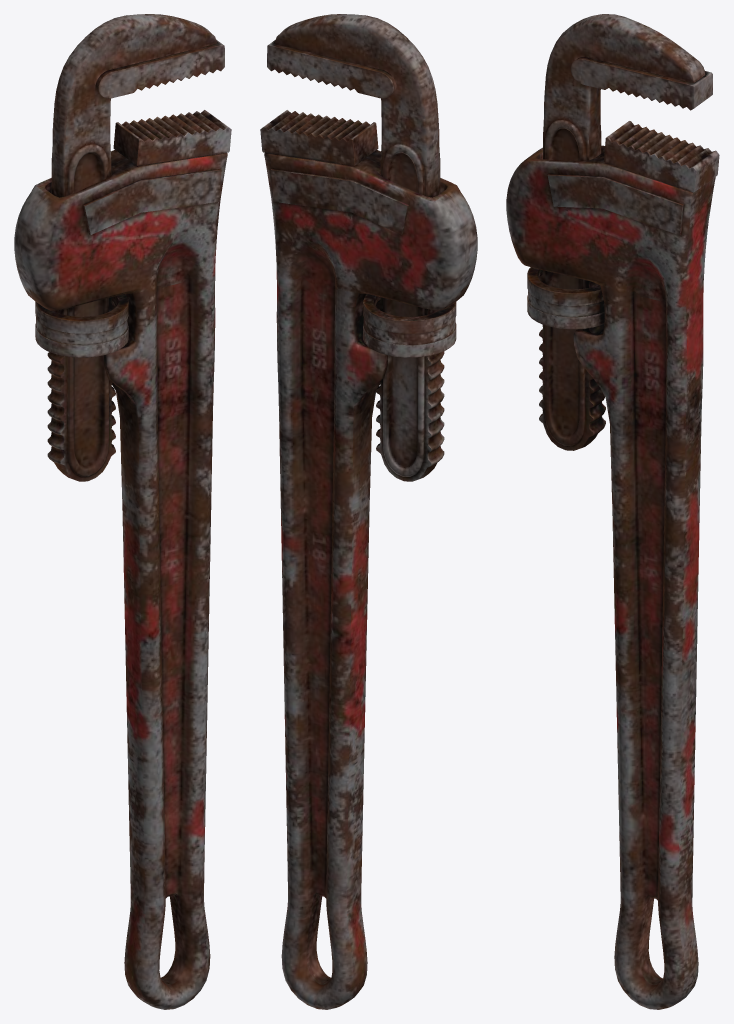
The model's file is pipe_wrench.glb.
3 views of the same model, side by side, from view 1: azimuth 30°, elevation 25°; view 2: azimuth 150°, elevation 25°; view 3: azimuth 330°, elevation 25° (orthographic).
Parts seen in each view (by area): view 1: pipe_wrench; view 2: pipe_wrench; view 3: pipe_wrench.
Part boxes in pixels (left/top/right/bottom): pipe_wrench: left=14, top=14, right=231, bottom=1009; pipe_wrench: left=260, top=14, right=477, bottom=1009; pipe_wrench: left=506, top=14, right=719, bottom=1009.
Bounding box in the file's own units: 0.084 × 0.4047 × 0.0343.
Materials: 1 (1 with a texture image).
